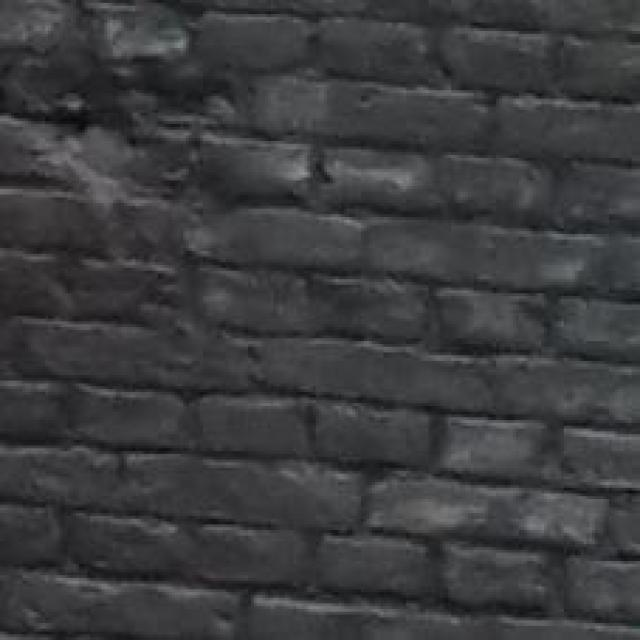Crack: (0, 0, 306, 259)
